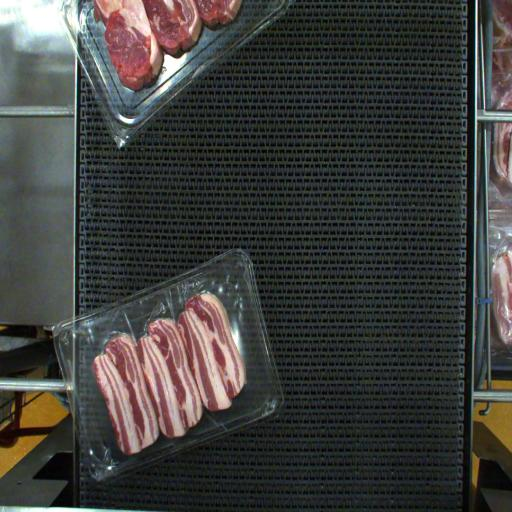unsealed: (83, 278, 244, 410)
